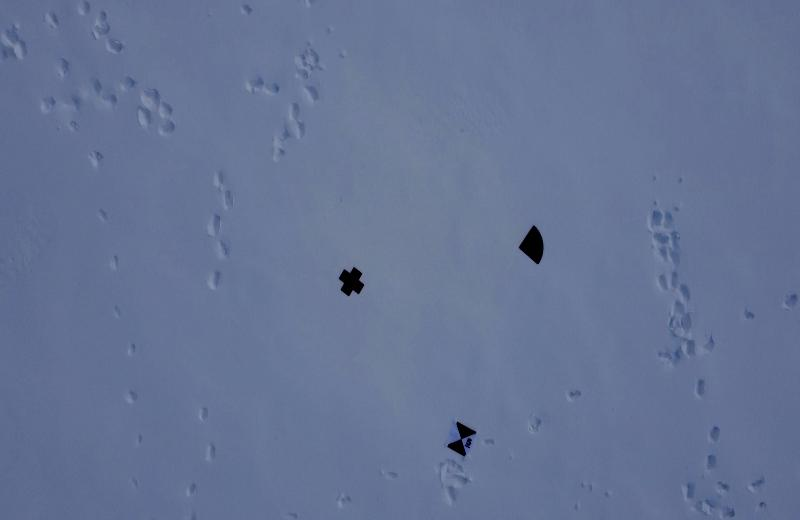Cross: (338, 264, 364, 300)
Quarter Circle: (514, 218, 546, 270)
